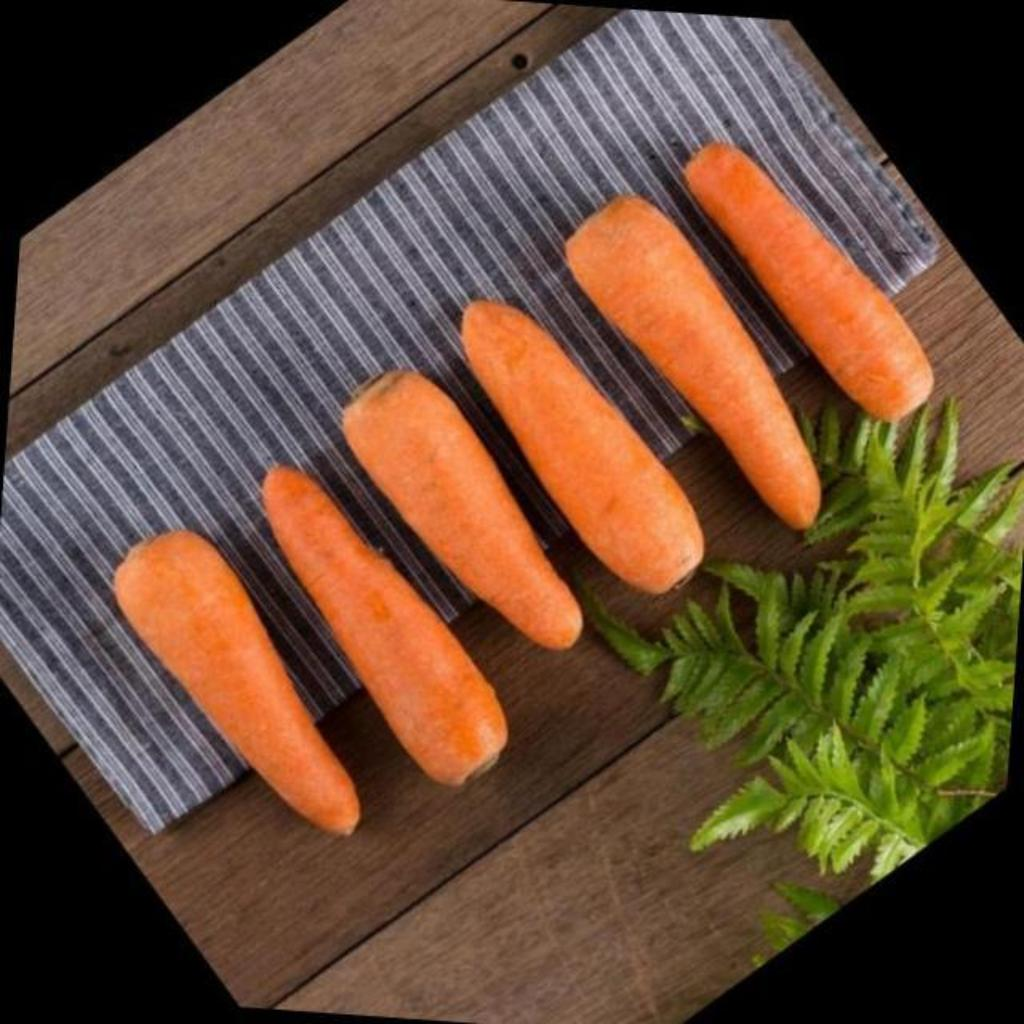carrot: (566, 198, 818, 529), (264, 470, 506, 785), (114, 532, 360, 833), (462, 302, 704, 592), (686, 144, 934, 419), (342, 372, 582, 648)
